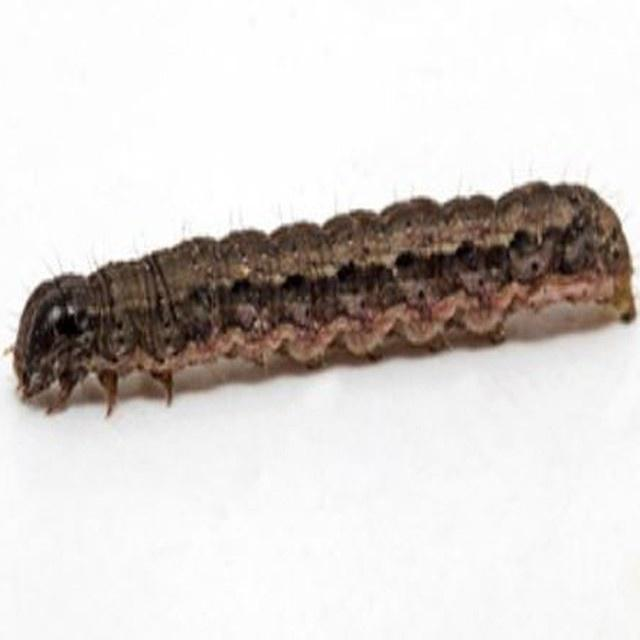gusano_cogollero: (13, 174, 640, 425)
